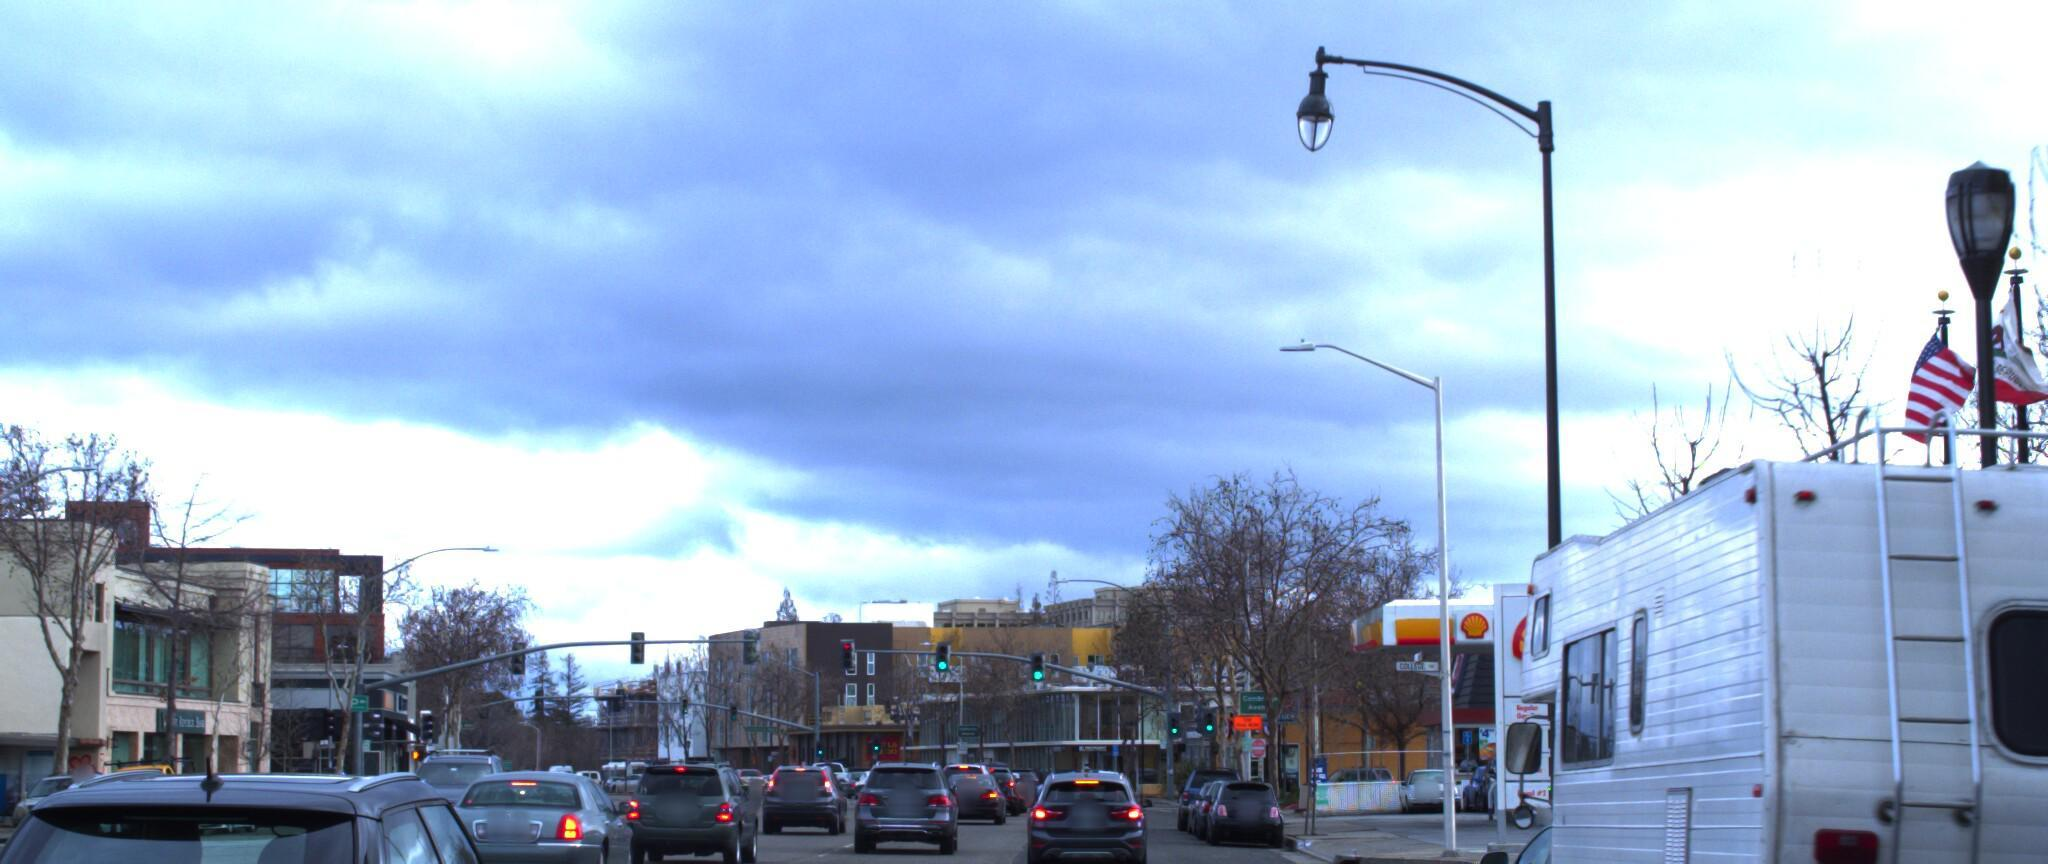car: (1464, 352, 2048, 864), (0, 756, 596, 864), (1428, 783, 1863, 864), (434, 760, 654, 864), (380, 731, 519, 844), (616, 747, 752, 859), (1021, 770, 1145, 864), (80, 740, 209, 822), (845, 753, 947, 850), (761, 737, 852, 814), (1192, 760, 1277, 831), (1984, 801, 2048, 864)
